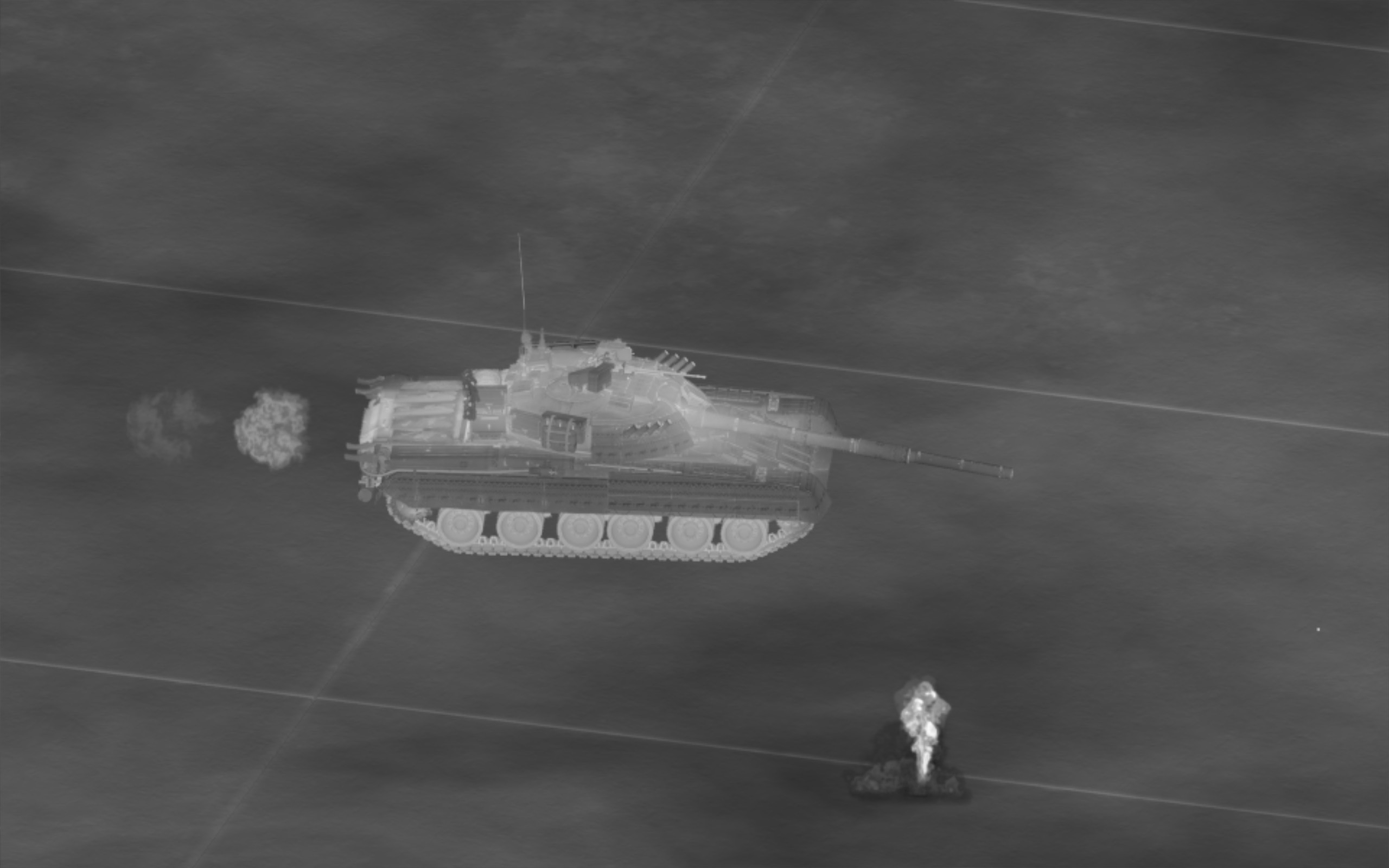t-80u: (346, 335, 1015, 562)
